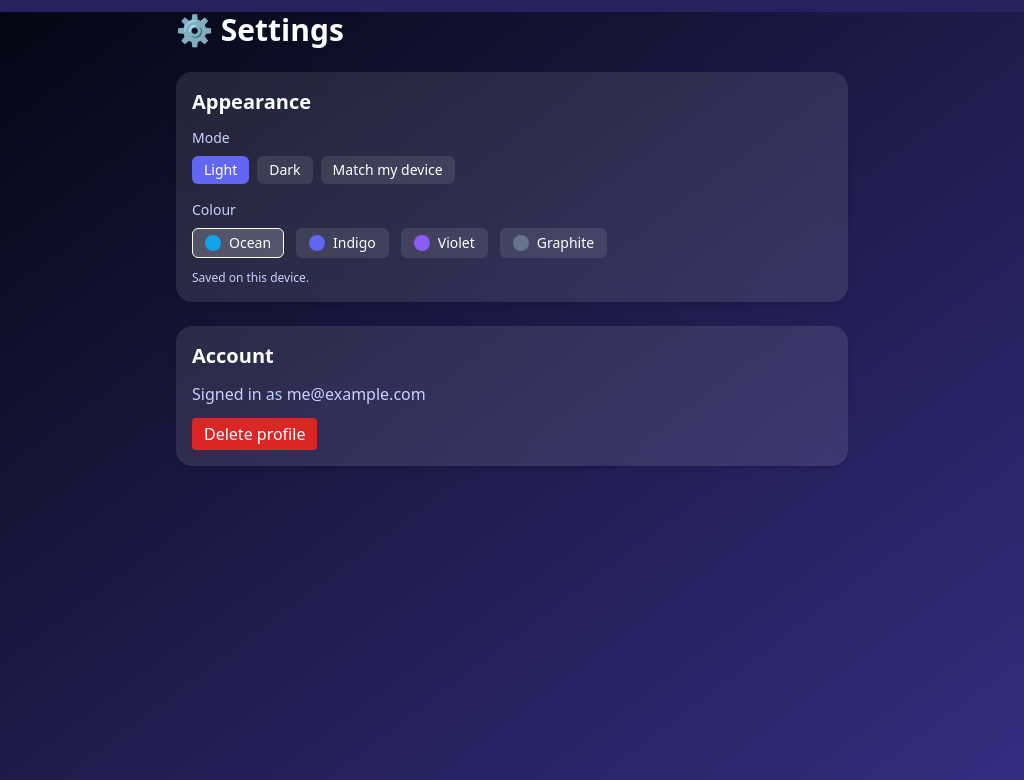
Scenario: Settings page › deleting the profile › asks the user to sign in again when the session has expired
Click the button "Delete profile": [255, 434] box [192,418,317,450]
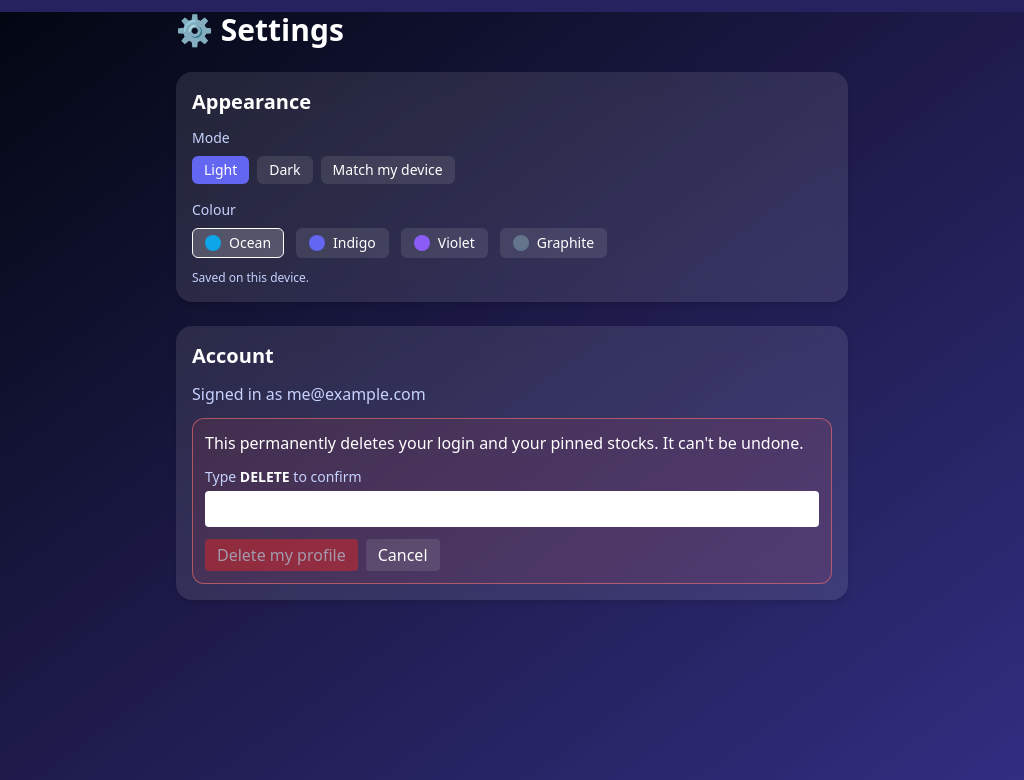
In the field: [512, 509] box [205,491,819,527], type "DELETE"
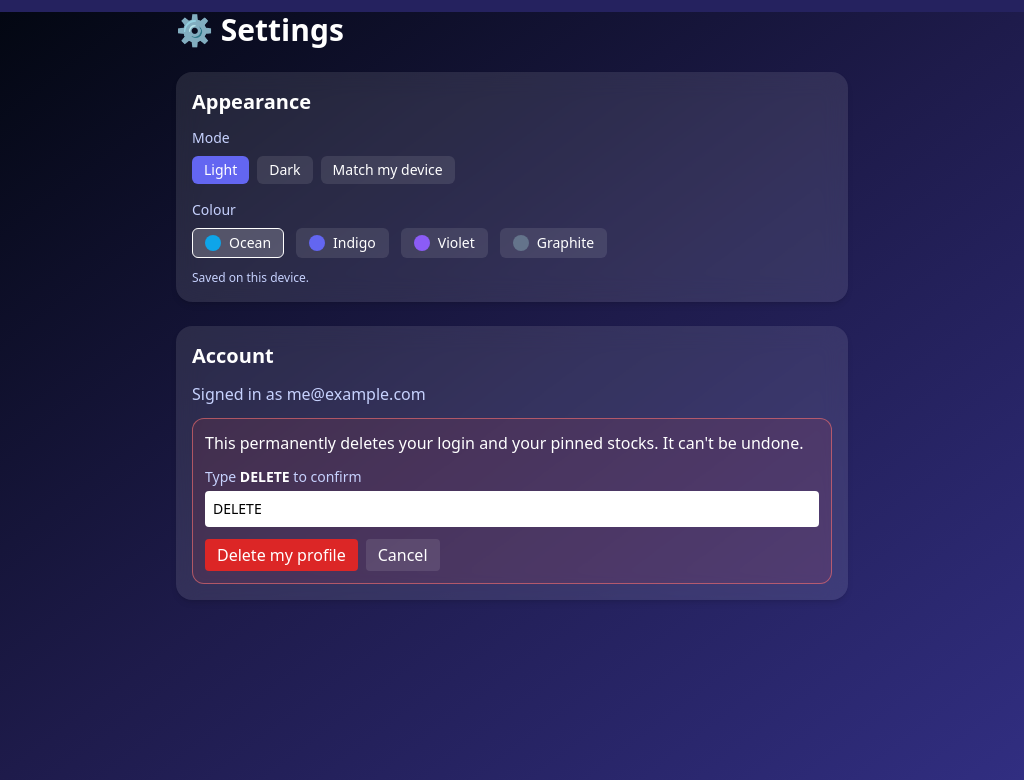
Click the button "Delete my profile": [281, 555] box [205,539,358,571]
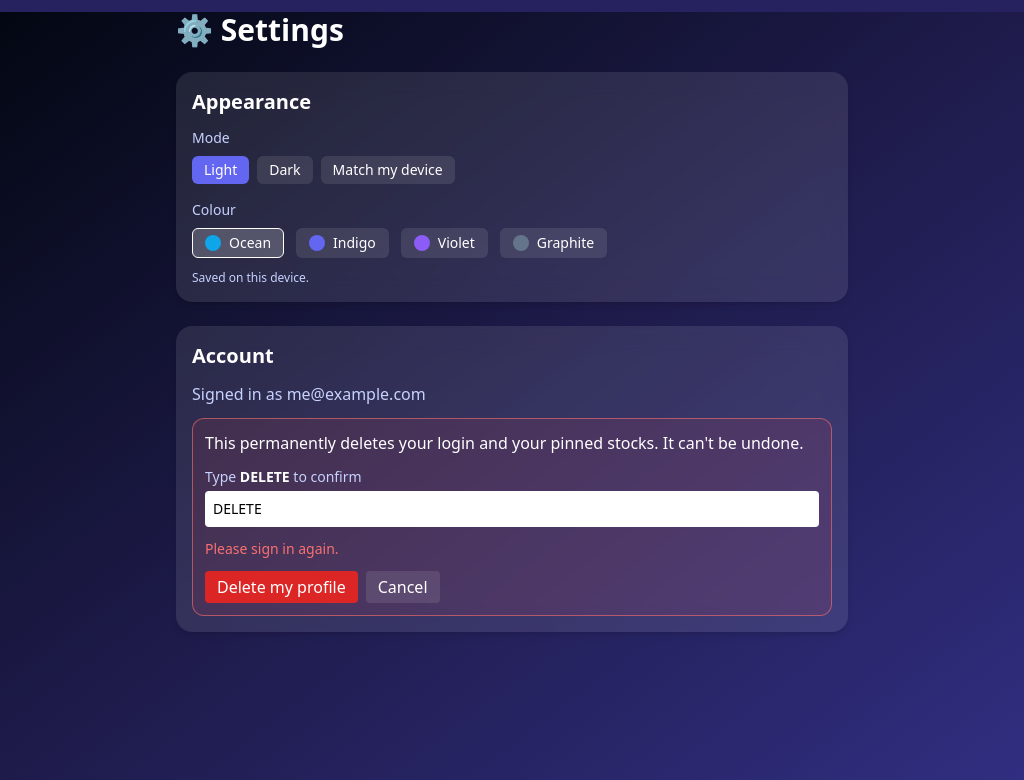
Result: the text "Please sign in again." is shown at [205,539,338,558]
